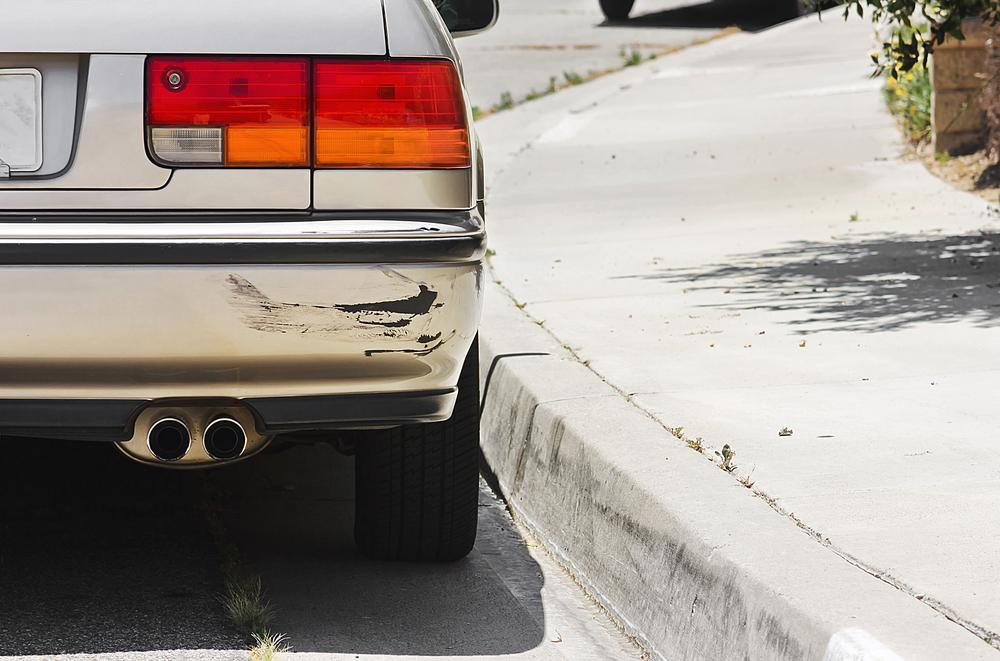scratch: (215, 267, 458, 359)
